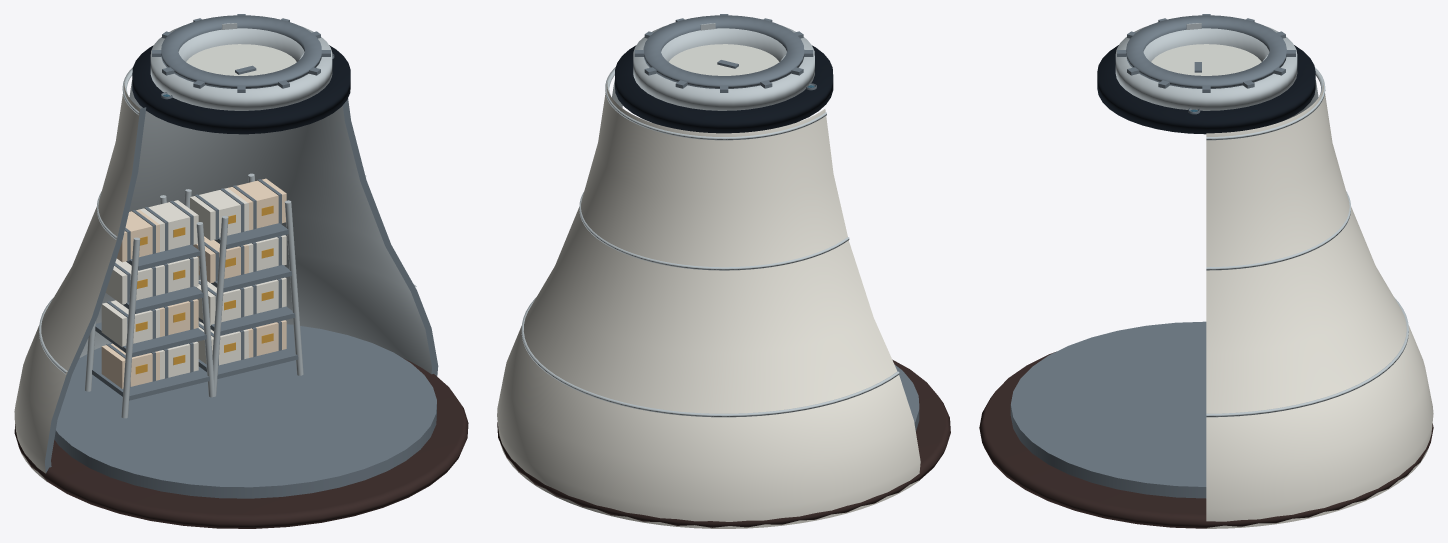
File: dragon_capsule_cutaway.glb
3 renders of one model, left to right at view 1: azimuth 30°, elevation 25°; view 2: azimuth 150°, elevation 25°; view 3: azimuth 270°, elevation 25°, orthographic.
Parts seen in each view (by area): view 1: dragon_capsule.cutaway.mesh_Machined_steel, dragon_capsule.mesh_Satin_aluminum, dragon_capsule.heat_shield.mesh_Ablative_thermal_protection, dragon_capsule.mesh_Warm_white_enamel, dragon_dock.mesh_Shadowed_interior, dragon_dock.mesh_Satin_aluminum, dragon_dock.mesh_Machined_steel, dragon_capsule.cutaway.cargo_rack_01.mesh_Machined_steel, dragon_capsule.mesh_Machined_steel, dragon_capsule.cutaway.cargo_rack_02.mesh_Machined_steel, dragon_capsule.cutaway.cargo_rack_01.mesh_Satin_aluminum, dragon_capsule.cutaway.cargo_rack_02.mesh_Satin_aluminum (+17 smaller); view 2: dragon_capsule.mesh_Warm_white_enamel, dragon_dock.mesh_Satin_aluminum, dragon_dock.mesh_Shadowed_interior, dragon_dock.mesh_Machined_steel, dragon_capsule.heat_shield.mesh_Ablative_thermal_protection, dragon_capsule.mesh_Satin_aluminum, dragon_dock.hatch.mesh_Pale_thermal_blanket, dragon_capsule.cutaway.mesh_Machined_steel; view 3: dragon_capsule.mesh_Warm_white_enamel, dragon_capsule.cutaway.mesh_Machined_steel, dragon_capsule.heat_shield.mesh_Ablative_thermal_protection, dragon_dock.mesh_Satin_aluminum, dragon_dock.mesh_Shadowed_interior, dragon_dock.mesh_Machined_steel, dragon_dock.hatch.mesh_Pale_thermal_blanket, dragon_capsule.mesh_Satin_aluminum.
Part boxes in pixels (box(x1,y1,x2,y2)): dragon_capsule.cutaway.mesh_Machined_steel: box(54, 324, 436, 498); dragon_capsule.mesh_Satin_aluminum: box(39, 67, 431, 374); dragon_capsule.heat_shield.mesh_Ablative_thermal_protection: box(14, 358, 468, 528); dragon_capsule.mesh_Warm_white_enamel: box(14, 81, 139, 481); dragon_dock.mesh_Shadowed_interior: box(132, 45, 350, 134); dragon_dock.mesh_Satin_aluminum: box(150, 25, 332, 110); dragon_dock.mesh_Machined_steel: box(152, 14, 330, 92); dragon_capsule.cutaway.cargo_rack_01.mesh_Machined_steel: box(92, 244, 209, 400); dragon_capsule.mesh_Machined_steel: box(45, 98, 438, 472); dragon_capsule.cutaway.cargo_rack_02.mesh_Machined_steel: box(198, 223, 298, 378); dragon_capsule.cutaway.cargo_rack_01.mesh_Satin_aluminum: box(85, 195, 213, 418); dragon_capsule.cutaway.cargo_rack_02.mesh_Satin_aluminum: box(184, 173, 303, 396); dragon_capsule.mesh_Warm_white_enamel: box(497, 82, 920, 528); dragon_dock.mesh_Satin_aluminum: box(633, 26, 814, 110); dragon_dock.mesh_Shadowed_interior: box(615, 45, 833, 133); dragon_dock.mesh_Machined_steel: box(634, 14, 813, 92); dragon_capsule.heat_shield.mesh_Ablative_thermal_protection: box(497, 359, 950, 527); dragon_capsule.mesh_Satin_aluminum: box(521, 67, 899, 417); dragon_dock.hatch.mesh_Pale_thermal_blanket: box(669, 44, 779, 75); dragon_capsule.cutaway.mesh_Machined_steel: box(894, 364, 919, 431); dragon_capsule.mesh_Warm_white_enamel: box(1206, 81, 1433, 528); dragon_capsule.cutaway.mesh_Machined_steel: box(1010, 321, 1206, 498); dragon_capsule.heat_shield.mesh_Ablative_thermal_protection: box(979, 351, 1433, 528); dragon_dock.mesh_Satin_aluminum: box(1115, 26, 1297, 110); dragon_dock.mesh_Shadowed_interior: box(1097, 45, 1315, 134); dragon_dock.mesh_Machined_steel: box(1117, 14, 1295, 92); dragon_dock.hatch.mesh_Pale_thermal_blanket: box(1151, 44, 1261, 75); dragon_capsule.mesh_Satin_aluminum: box(1206, 67, 1408, 417).
Size of the model in its own units: 3.97 by 3.85 by 3.97.
